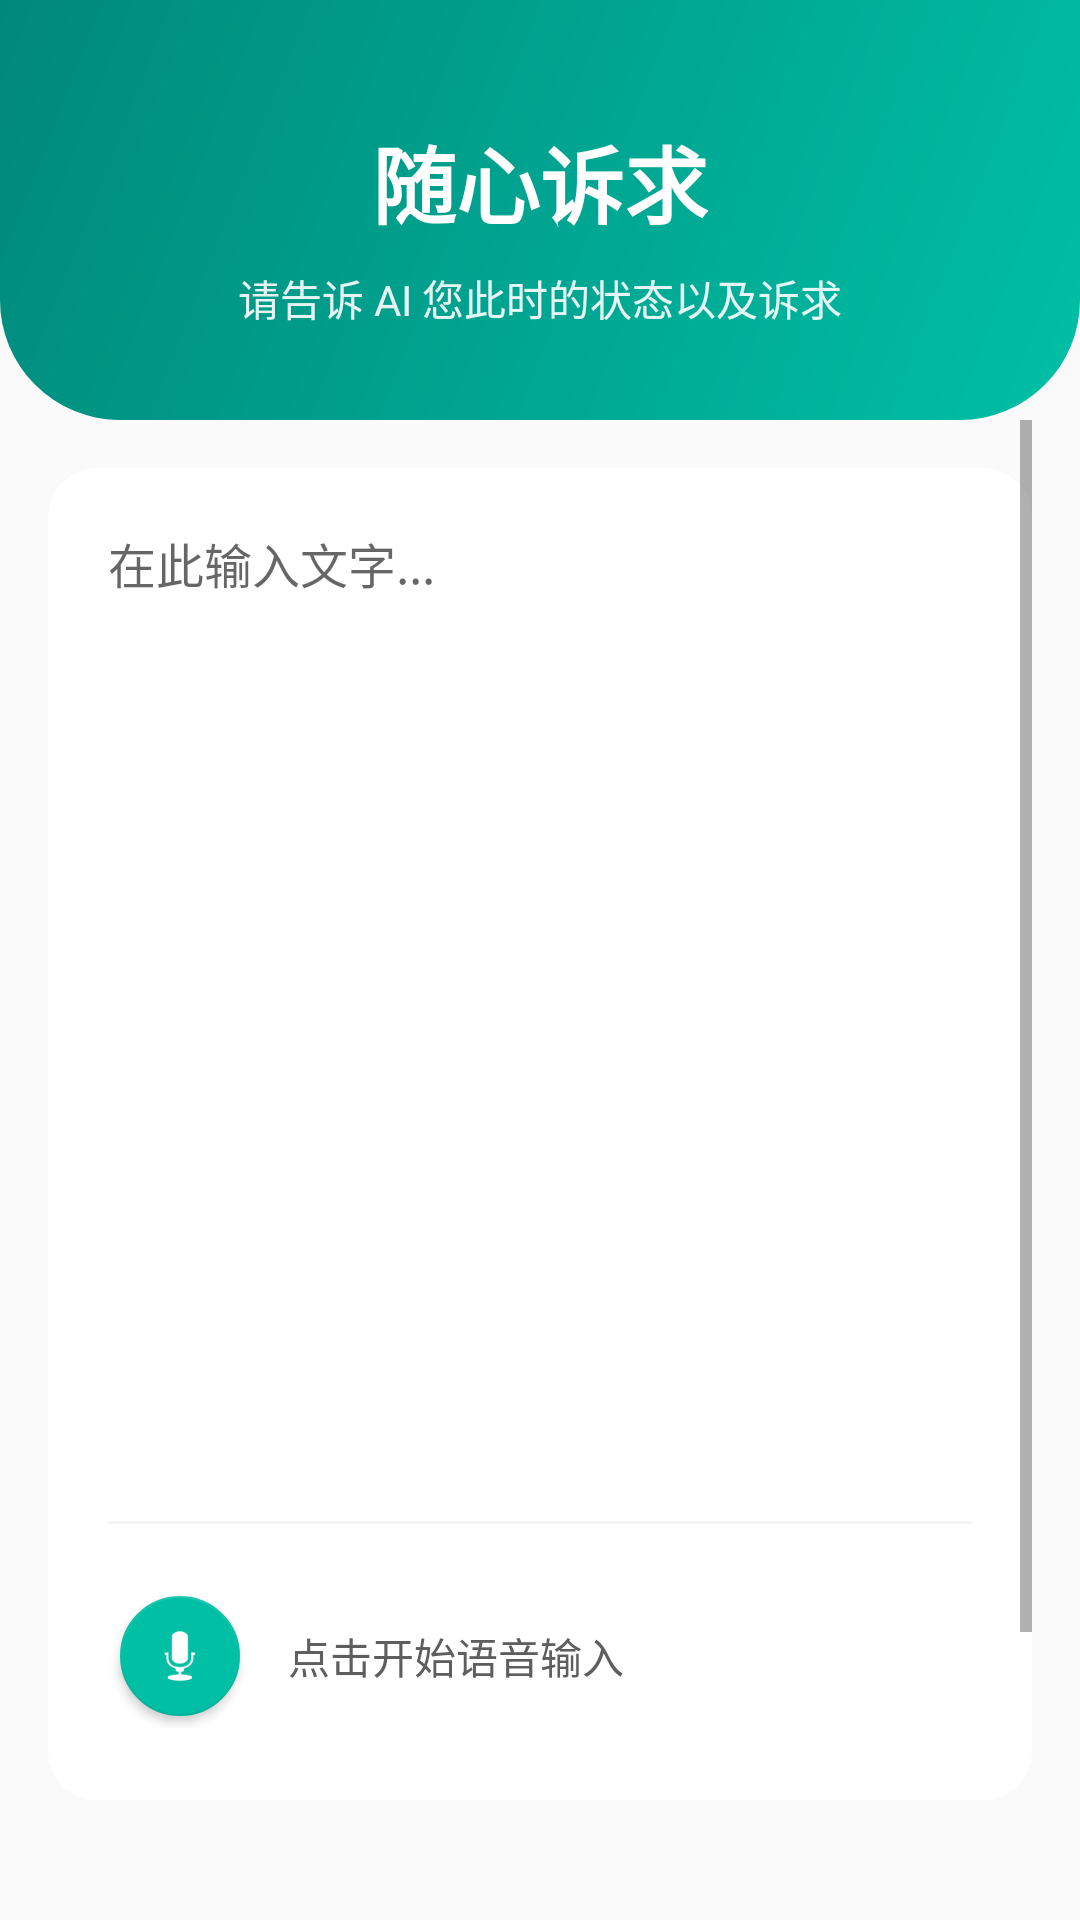

Named icons in this screenshot (1080px×1920px) and their bounding boxes, bbox(x1, y1, x2, y2):
speak now: bbox(120, 1596, 240, 1721)
